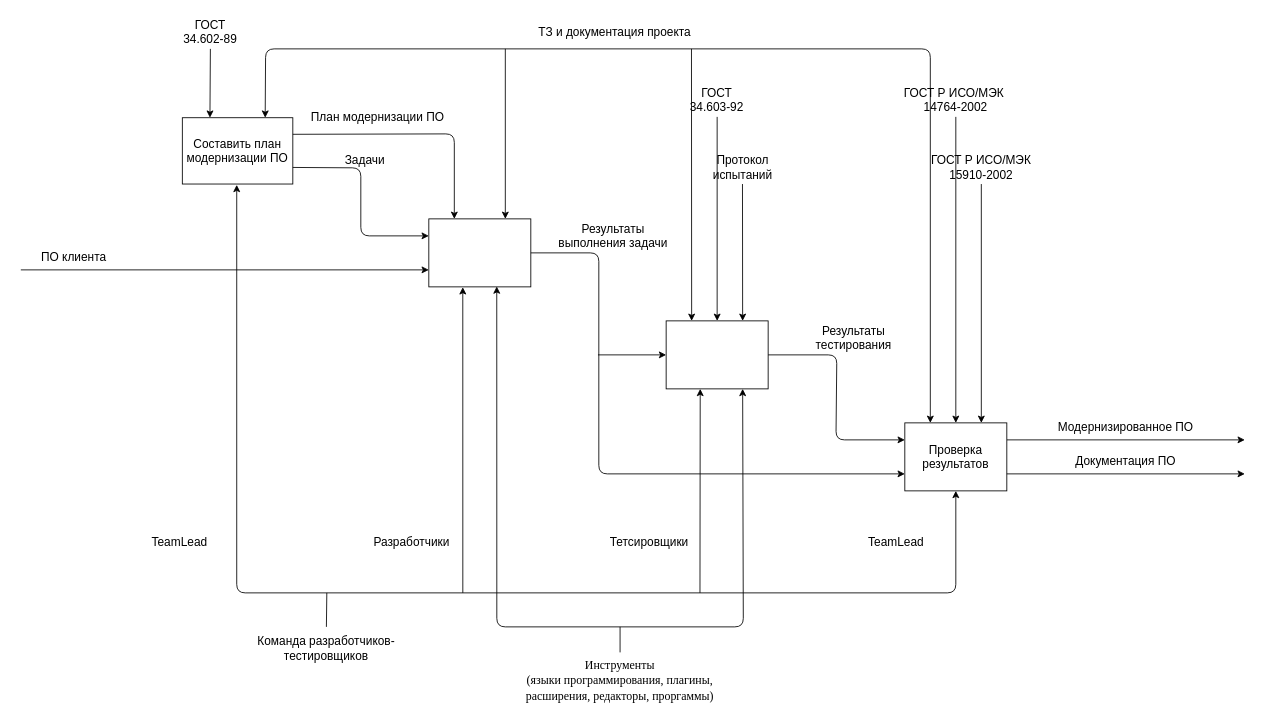
This 1267x726 diagram has some shape labels left out. Here are the shapes that lost their labels. From the top down, the centre of each, then its label:
the point at 479,252: Выполнить задачи
the point at 716,354: Протестировать результаты
